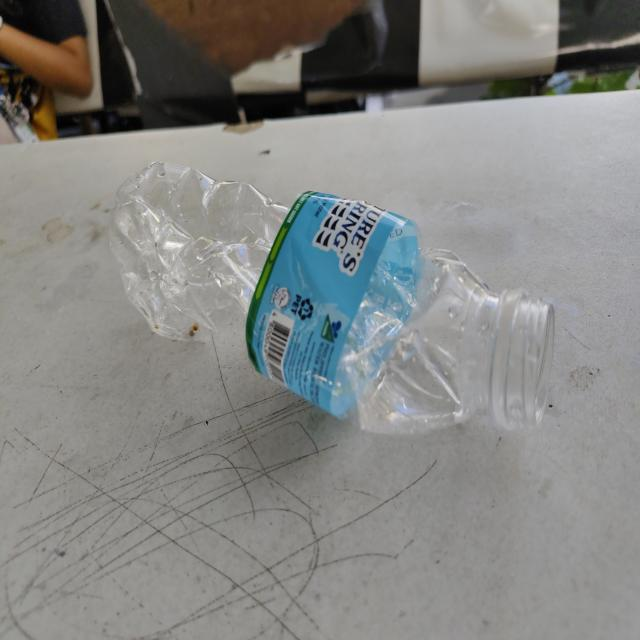Bottle: (110, 163, 554, 433)
